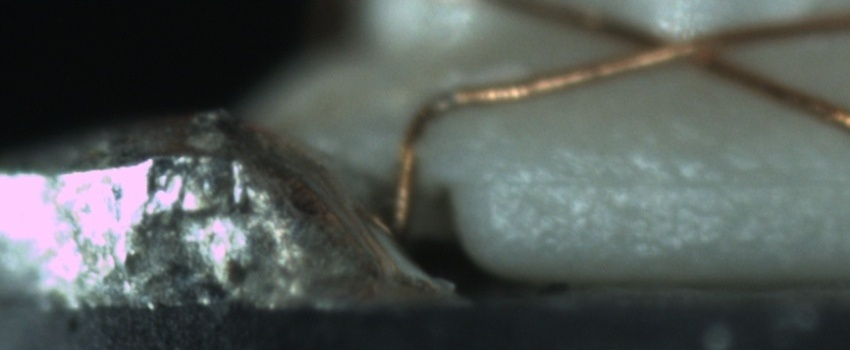CL: (610, 17, 744, 75)
DL: (495, 148, 849, 214)
